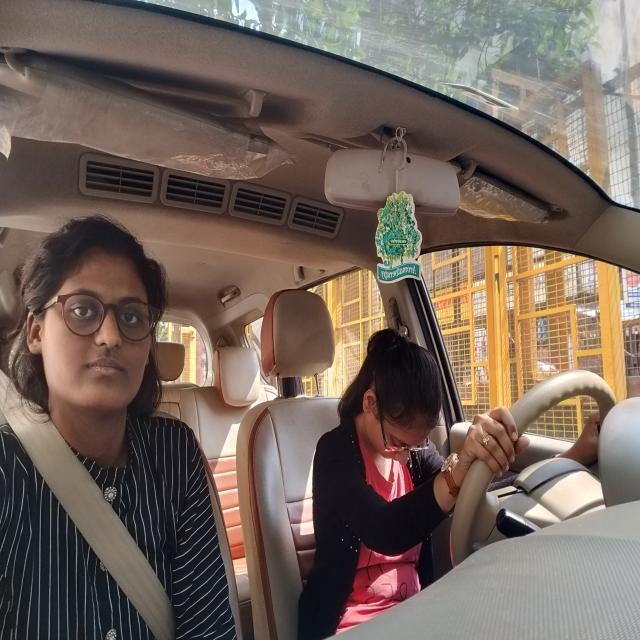drowsy: (353, 325, 448, 469)
person: (15, 206, 173, 426)
